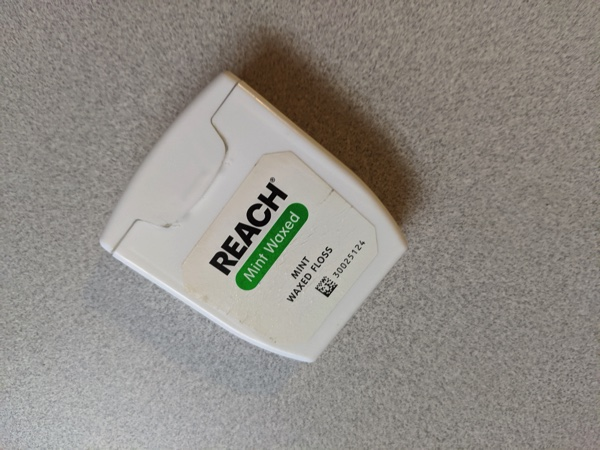plastic: (78, 45, 442, 385)
